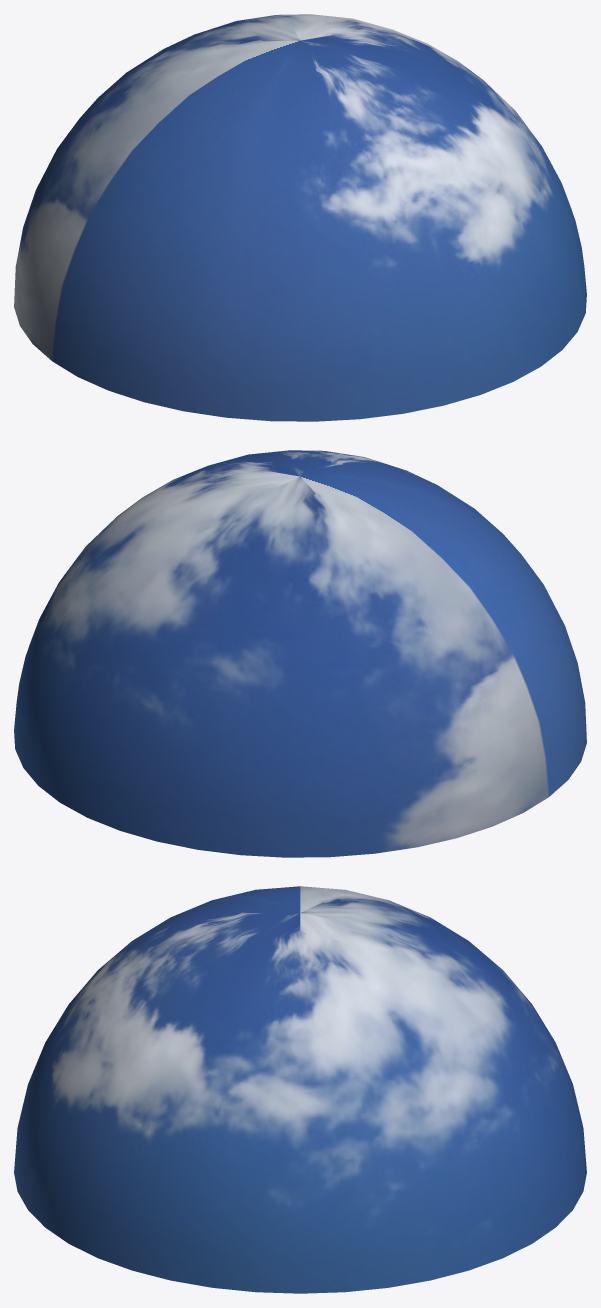
The model's file is planet6.FBX.
The picture shows the model from 3 angles, top to bottom: view 1: azimuth 30°, elevation 25°; view 2: azimuth 150°, elevation 25°; view 3: azimuth 270°, elevation 25°; orthographic projection.
Parts seen in each view (by area): view 1: GeoSphere001; view 2: GeoSphere001; view 3: GeoSphere001.
Boxes of the visible parts, <box> form: GeoSphere001: <box>14,14,586,421</box>; GeoSphere001: <box>14,450,586,857</box>; GeoSphere001: <box>14,886,586,1293</box>.
Size of the model in its own units: 115 by 57.64 by 115.
Materials: 1 (1 with a texture image).
